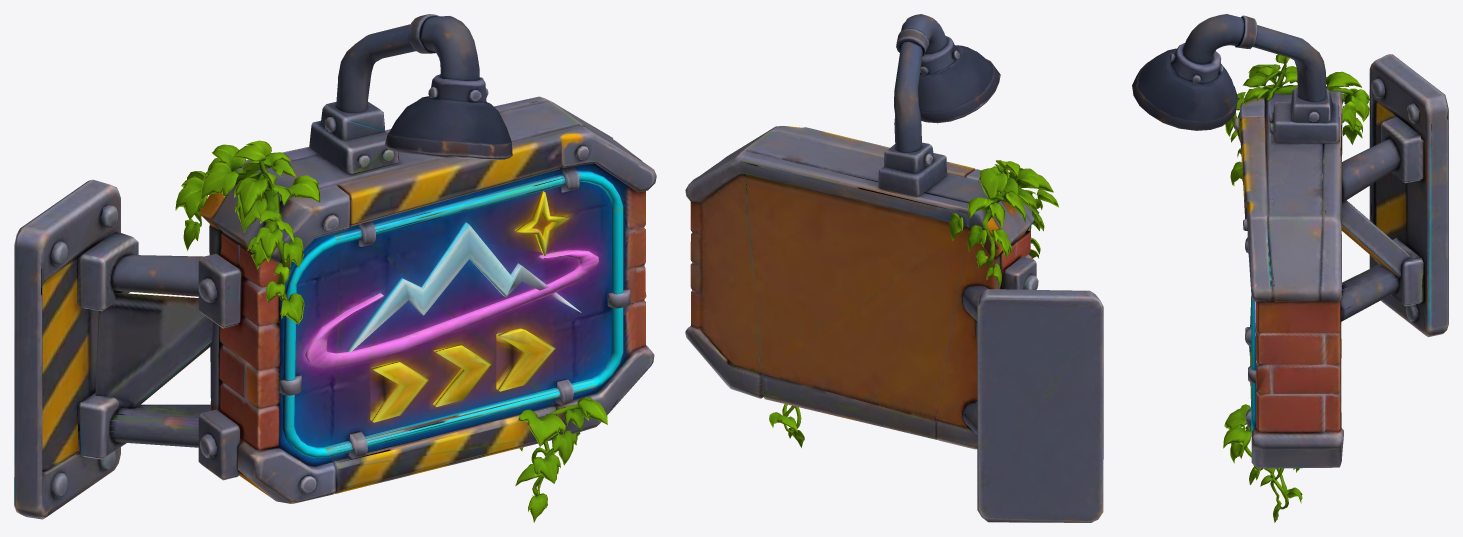
File: wall_neon_signboard.glb
The picture shows the model from 3 angles, left to right: view 1: azimuth 30°, elevation 25°; view 2: azimuth 150°, elevation 25°; view 3: azimuth 270°, elevation 25°; orthographic projection. The views are drawn at different scales.
Parts seen in each view (by area): view 1: geometry_0; view 2: geometry_0; view 3: geometry_0.
Boxes of the visible parts, x1,y1,x2,y2 form: geometry_0: [14, 14, 656, 522]; geometry_0: [685, 14, 1103, 522]; geometry_0: [1132, 14, 1448, 522].
Size of what is drawn, in the model's own units: 1.06 by 1 by 0.6257.
1 material, 1 textured.
